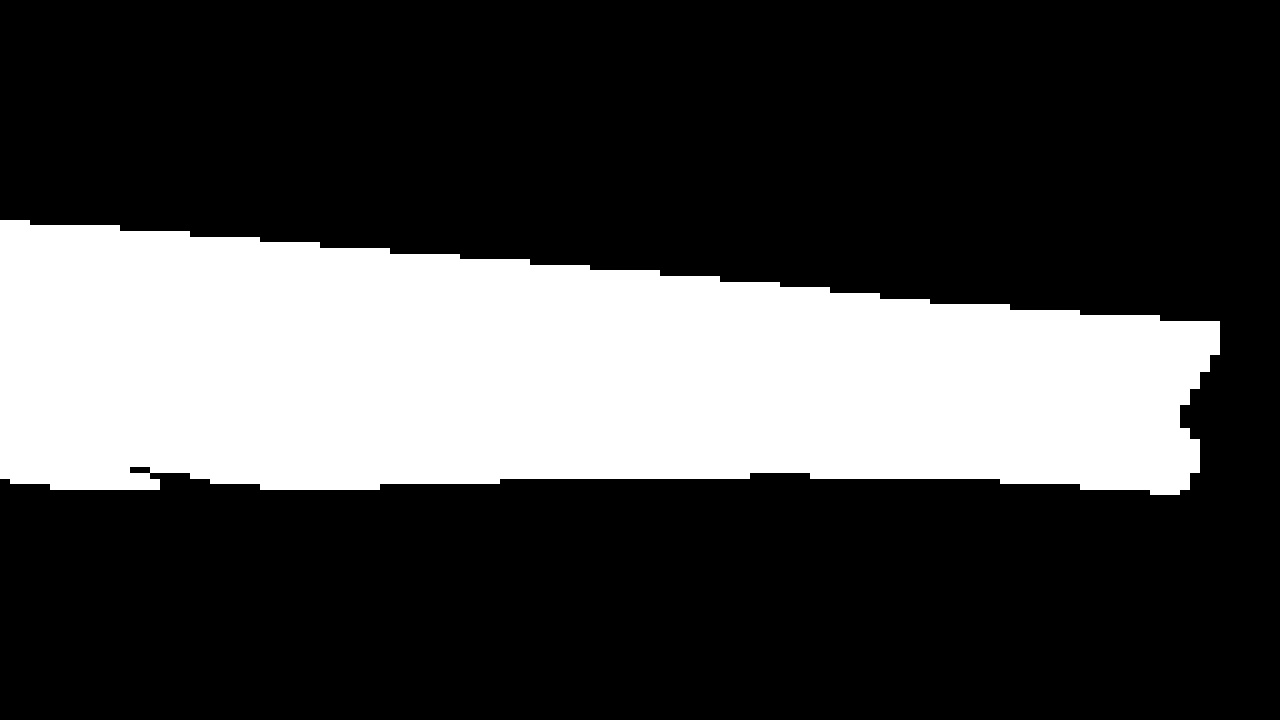Turbine: (11, 205, 1233, 512)
